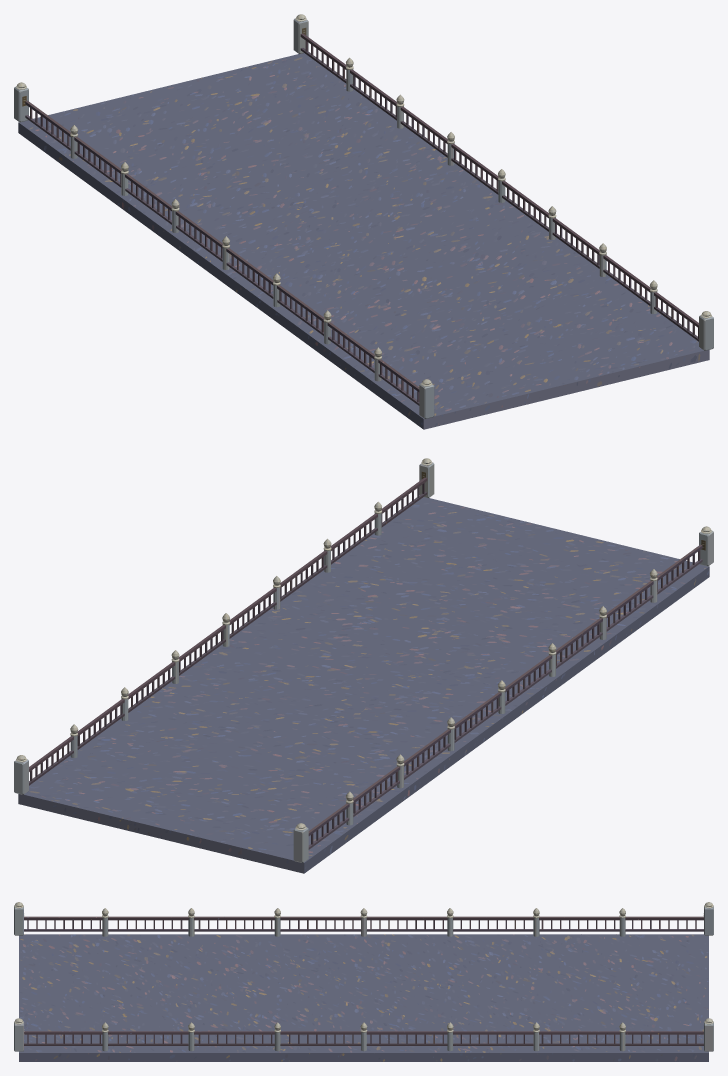
The model's file is ART_KyobashiBridge.glb.
3 views of the same model, one above another, from view 1: azimuth 30°, elevation 25°; view 2: azimuth 150°, elevation 25°; view 3: azimuth 270°, elevation 25° (orthographic). The views are drawn at different scales.
Visible parts, largest first — view 1: ART_KyobashiBridge; view 2: ART_KyobashiBridge; view 3: ART_KyobashiBridge.
Boxes of the visible parts, bbox=[...] form: ART_KyobashiBridge: bbox=[14, 14, 713, 429]; ART_KyobashiBridge: bbox=[14, 458, 713, 873]; ART_KyobashiBridge: bbox=[14, 902, 713, 1061].
Size of the model in its own units: 14.2 by 2.32 by 34.9.
